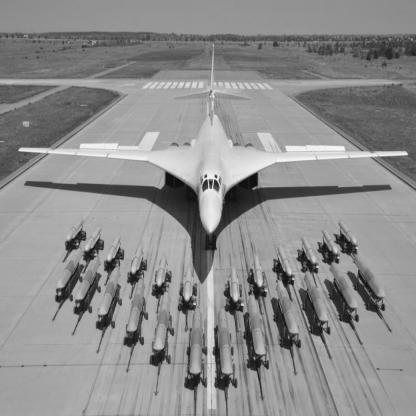Tu160: (19, 45, 409, 251)
